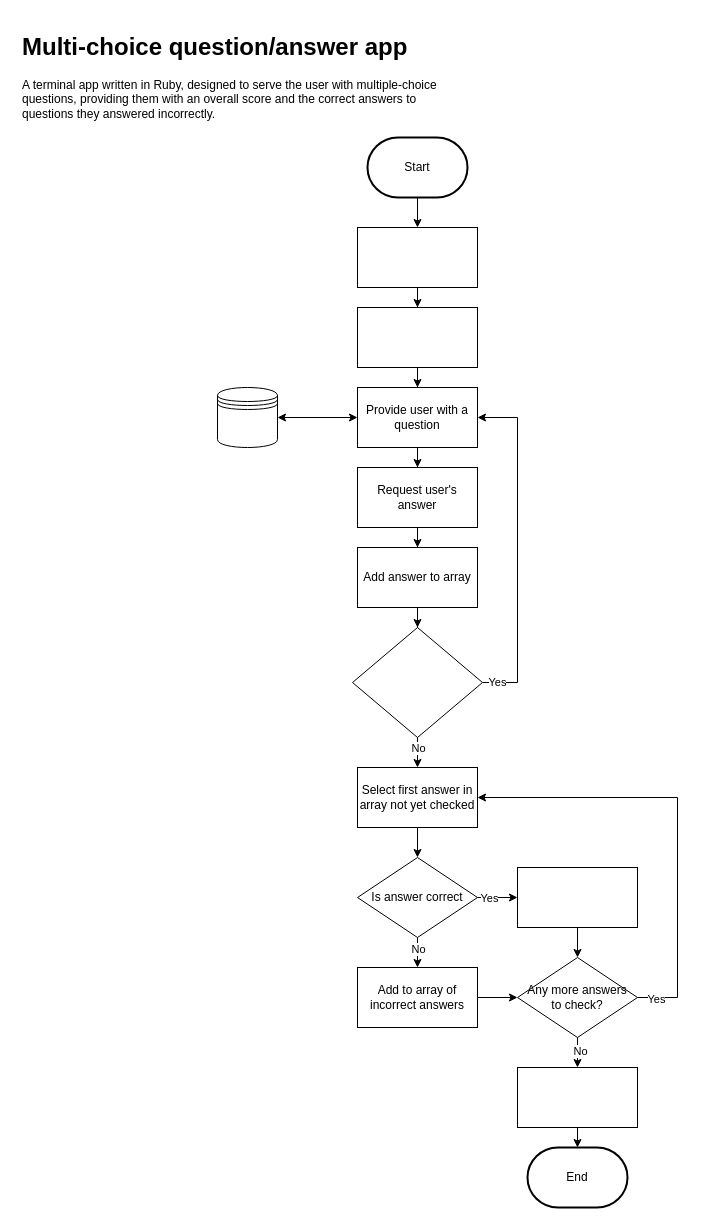
This 703x1225 diagram has some shape labels left out. Each missing label, with the centre of its shape:
Are there more questions to answer?: the point at 417,682
Ask for user's name: the point at 417,257
Display total score & answers to questions the user answered incorrectly: the point at 577,1097
Display welcome message and instructions: the point at 417,337
Increase score by 1: the point at 577,897
